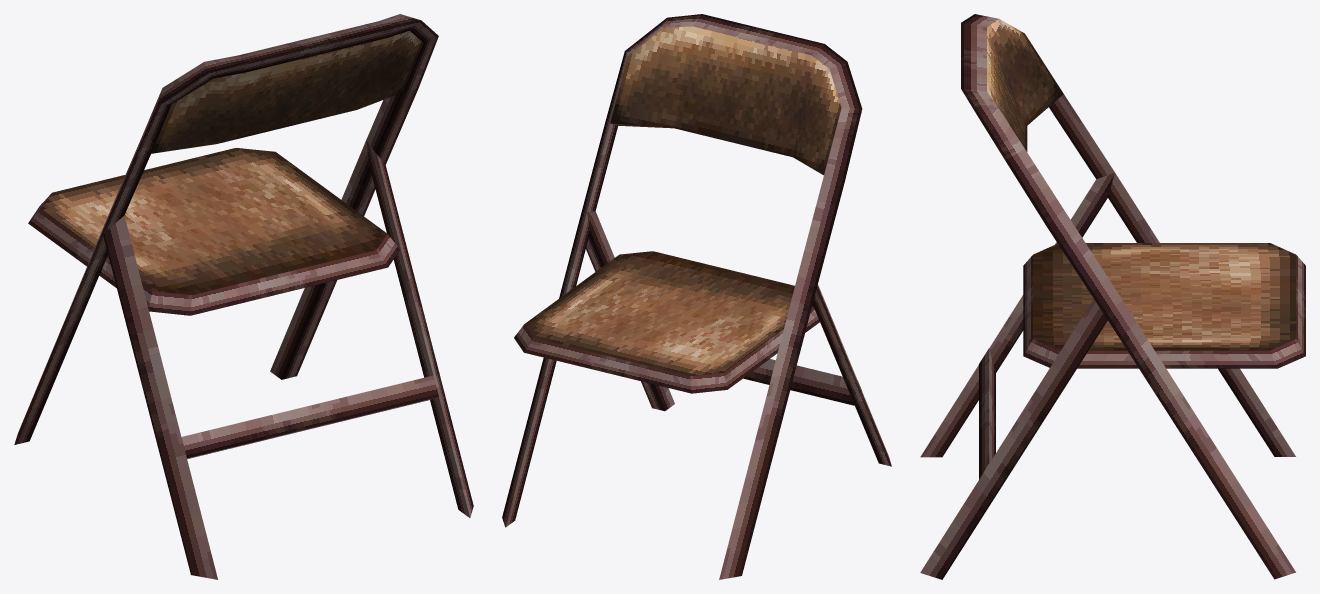
Rendered from foldingchair_open.fbx.
3 views of the same model, side by side, from view 1: azimuth 30°, elevation 25°; view 2: azimuth 150°, elevation 25°; view 3: azimuth 270°, elevation 25° (orthographic). The views are drawn at different scales.
Parts seen in each view (by area): view 1: mesh_0; view 2: mesh_0; view 3: mesh_0.
Boxes of the visible parts, x1,y1,x2,y2 form: mesh_0: (14,14,473,579); mesh_0: (502,14,891,579); mesh_0: (920,14,1305,579).
Size of the model in its own units: 60.6 by 100 by 76.2.
Materials: 1 (1 with a texture image).
